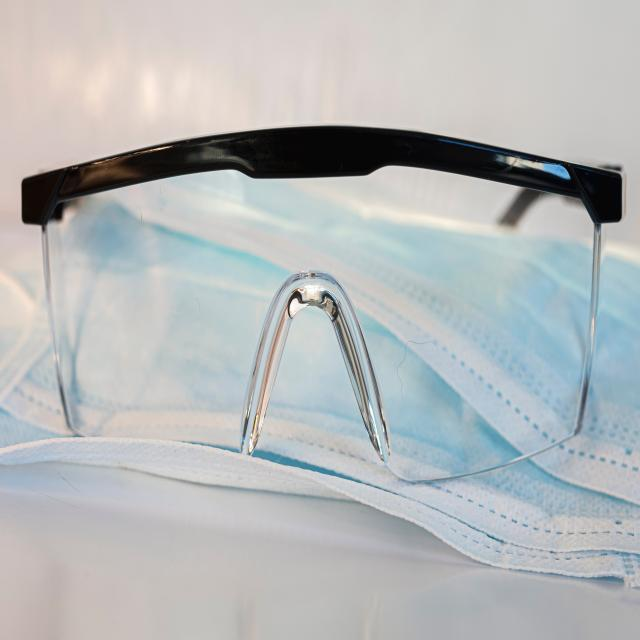Goggles: (12, 94, 630, 509)
